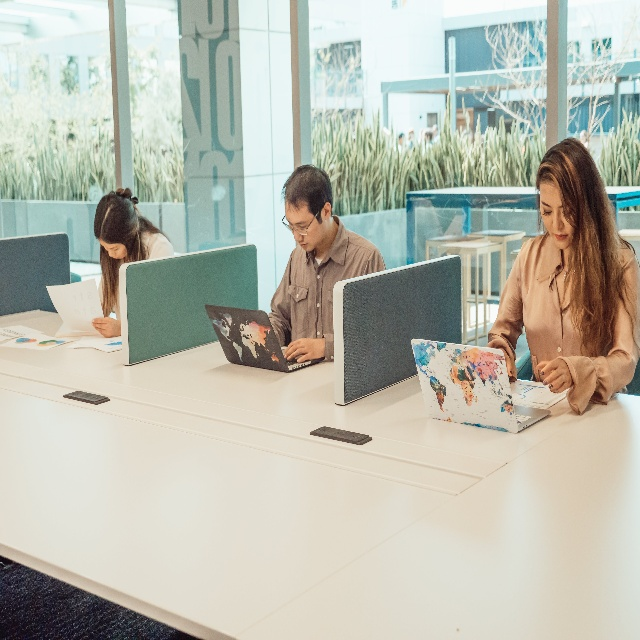Gafas: (281, 208, 321, 236)
Sin_guantes: (535, 358, 570, 395), (283, 337, 325, 364), (91, 316, 121, 338), (504, 350, 512, 378)
